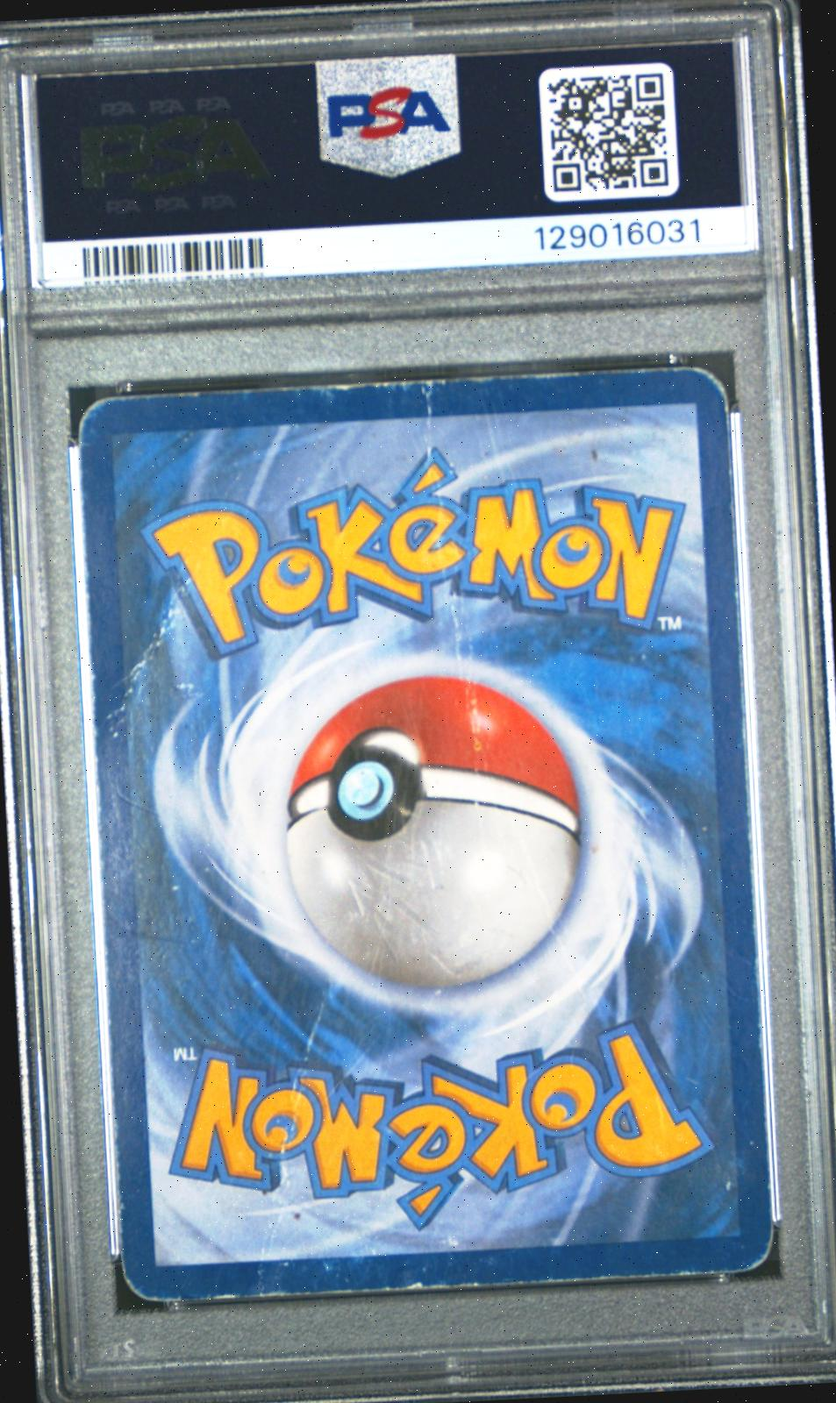card-2UtV: (77, 365, 774, 1302)
